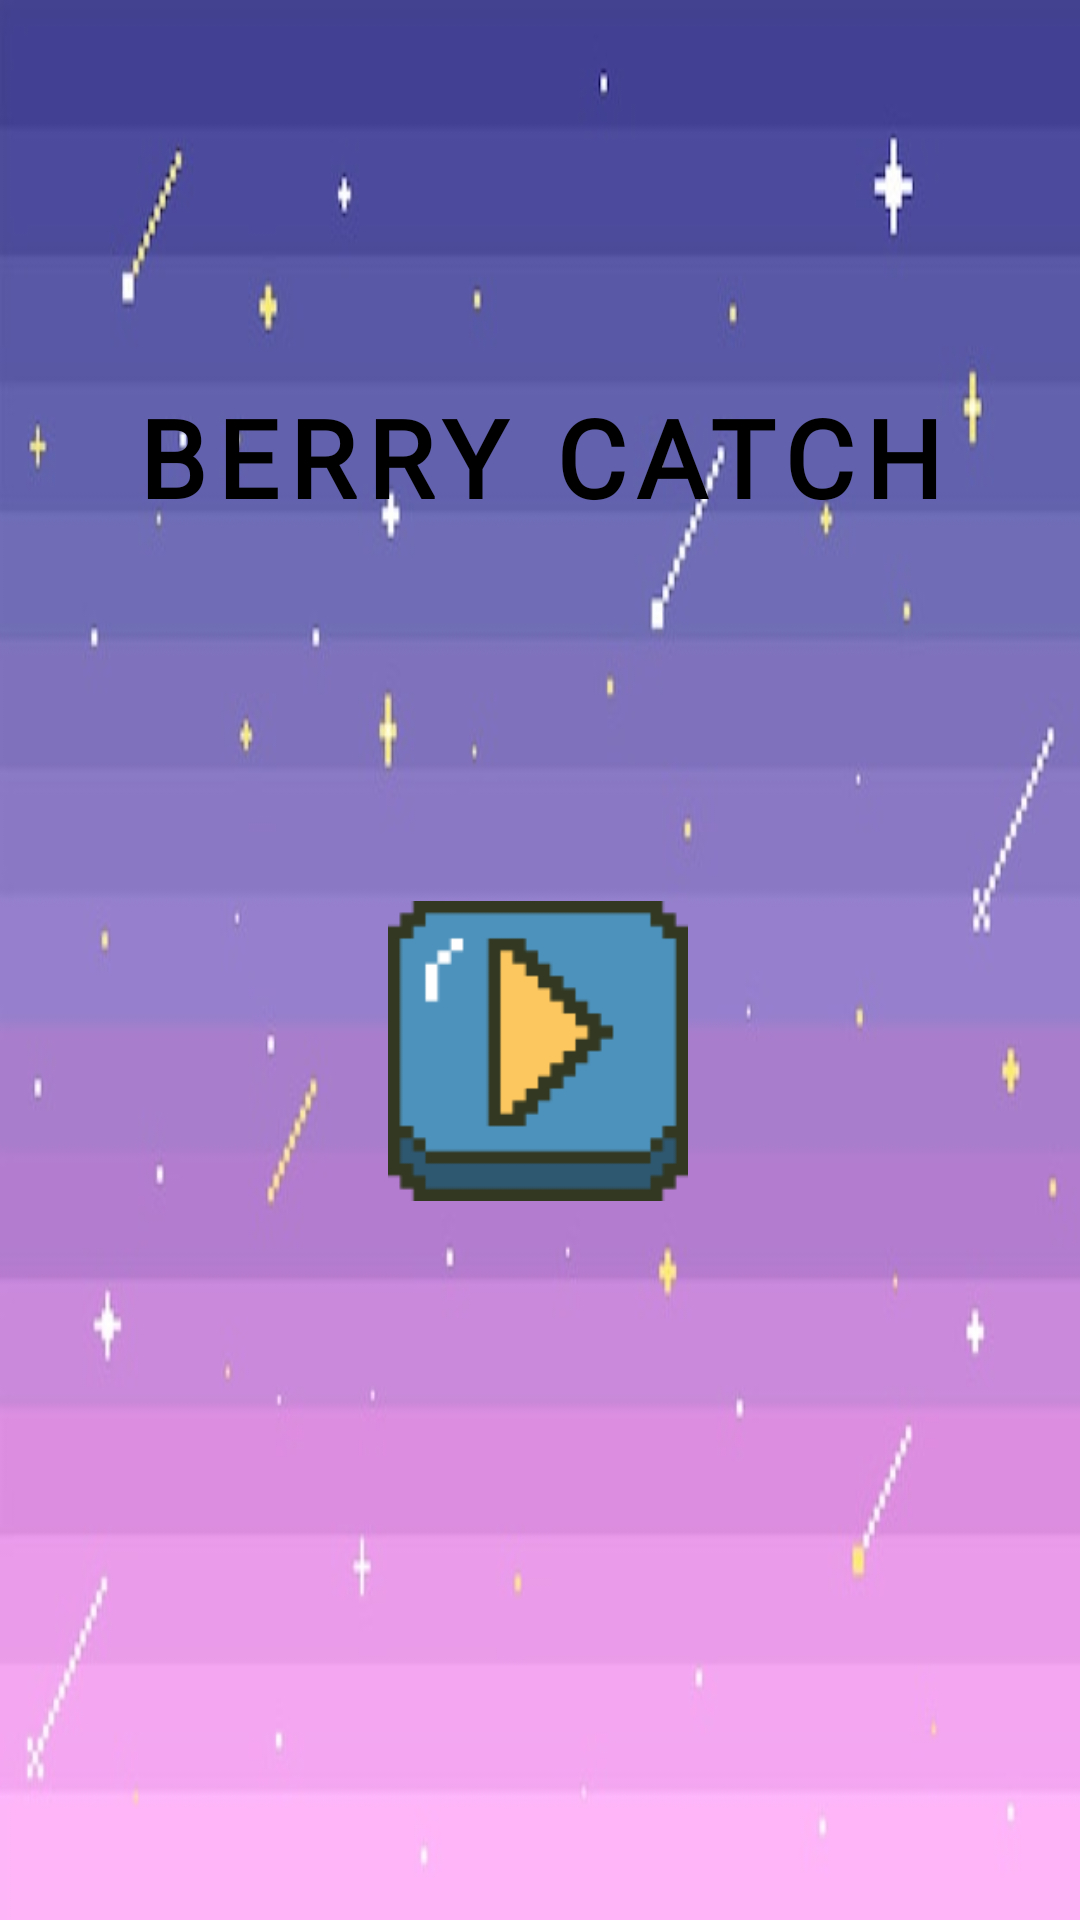

Where to tap for icons on this 1080×1920 app screen, as (x,y):
play btn: (538,1051)
